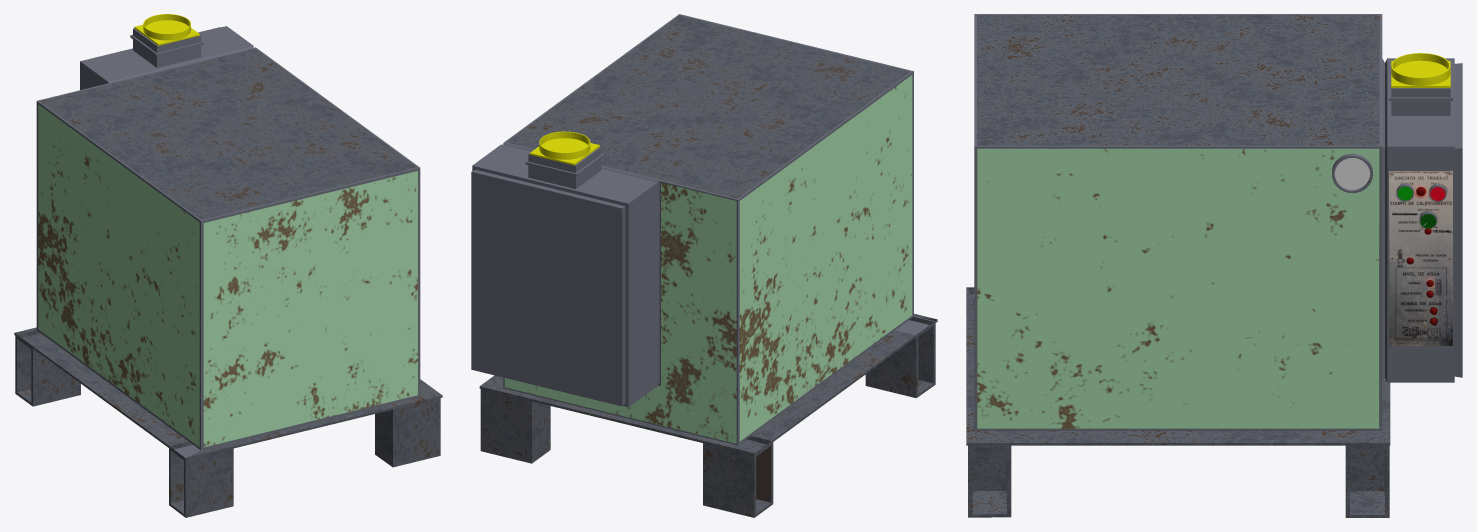
File: GeneradorIzquierdo31.fbx
The picture shows the model from 3 angles, left to right: view 1: azimuth 30°, elevation 25°; view 2: azimuth 150°, elevation 25°; view 3: azimuth 270°, elevation 25°; orthographic projection. The views are drawn at different scales.
Parts seen in each view (by area): view 1: Cube; view 2: Cube; view 3: Cube.
Part boxes in pixels (left/top/right/bottom): Cube: left=14, top=14, right=442, bottom=517; Cube: left=471, top=14, right=937, bottom=517; Cube: left=966, top=14, right=1462, bottom=517.
Bounding box in the file's own units: 234 × 279 × 316.
